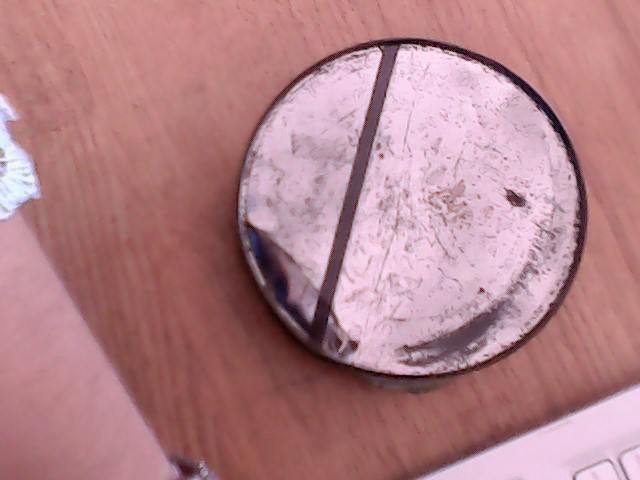Metal: (195, 29, 620, 425)
